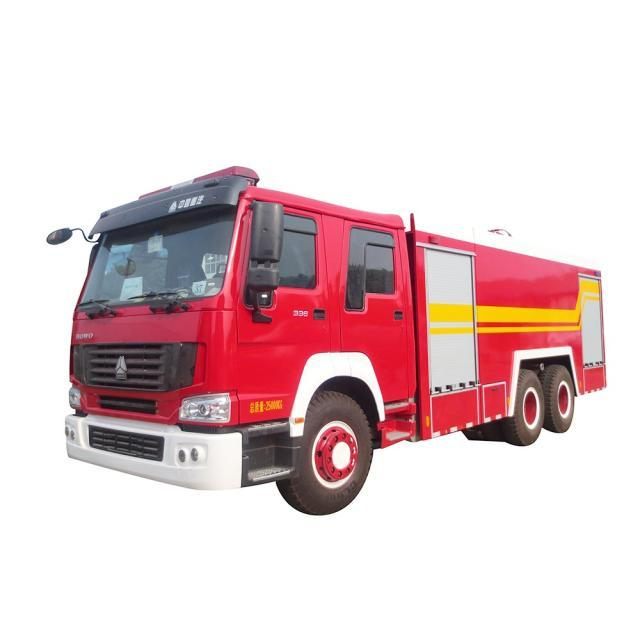Fire-engine: (45, 164, 608, 516)
